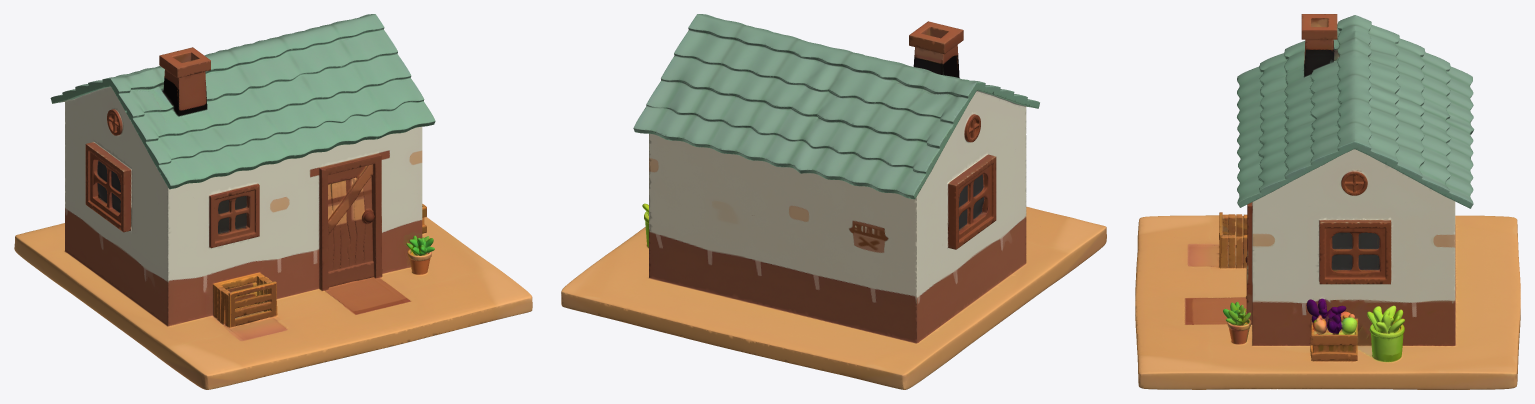
Rendered from Model_Kitchen.fbx.
The picture shows the model from 3 angles, left to right: view 1: azimuth 30°, elevation 25°; view 2: azimuth 150°, elevation 25°; view 3: azimuth 270°, elevation 25°; orthographic projection. The views are drawn at different scales.
Visible parts, largest first — view 1: Mesh_0; view 2: Mesh_0; view 3: Mesh_0.
Part boxes in pixels (x1,y1,x2,y2): Mesh_0: [14, 14, 532, 389]; Mesh_0: [561, 14, 1106, 389]; Mesh_0: [1135, 14, 1520, 389].
Size of the model in its own units: 1.84 by 1.35 by 1.9.
1 material, 1 textured.
